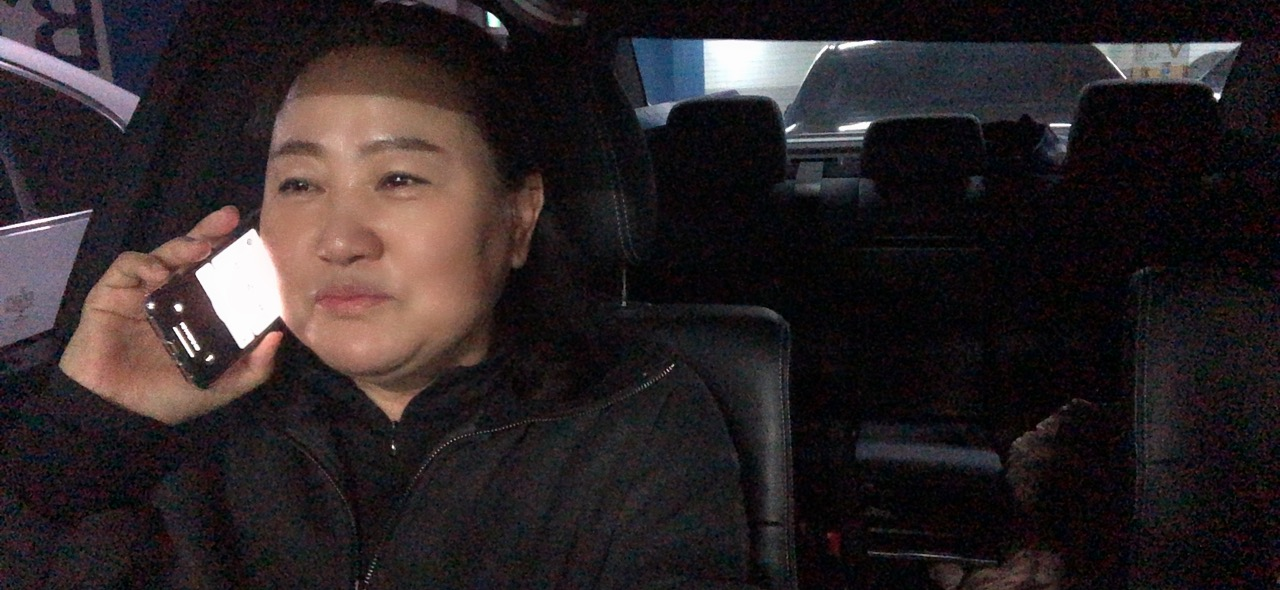phone: (5, 4, 768, 590)
